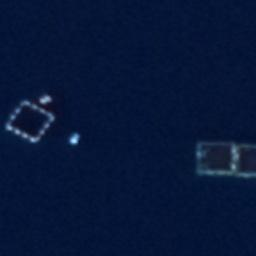square_solid: (4, 95, 61, 147), (189, 136, 239, 179), (232, 139, 256, 183)
